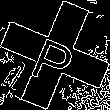P_NE: (28, 24, 82, 86)
